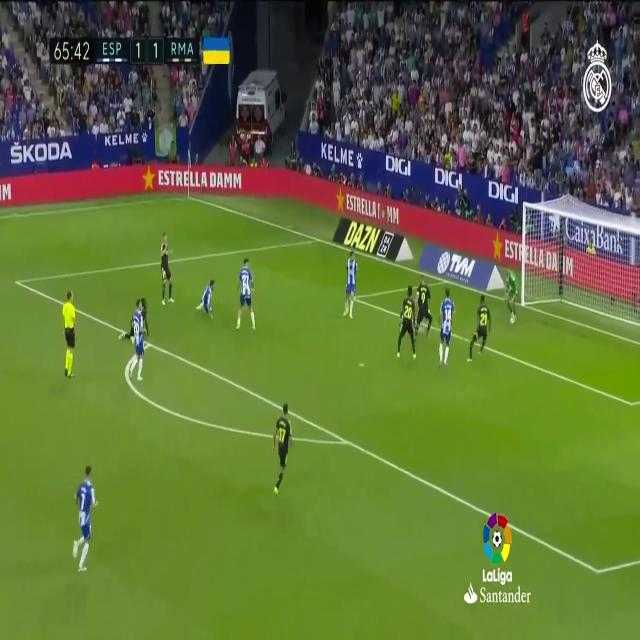GoalKeeper: (499, 258, 524, 333)
Referee: (60, 284, 84, 392)
TEAM 1: (74, 460, 98, 563), (233, 253, 262, 323), (344, 253, 365, 326), (439, 286, 457, 367), (194, 276, 220, 332), (132, 309, 148, 384)
TEAM 2: (465, 287, 498, 373), (267, 398, 296, 494), (155, 229, 186, 305), (396, 270, 415, 374), (416, 268, 433, 348)
